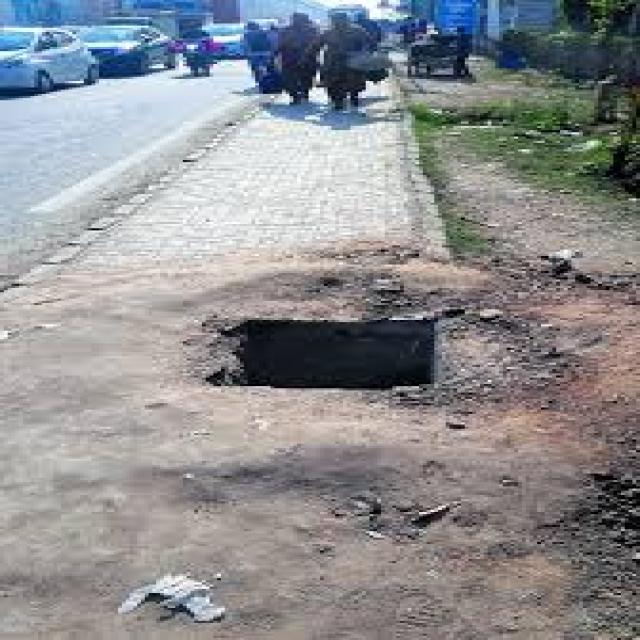hole: (201, 319, 438, 385)
